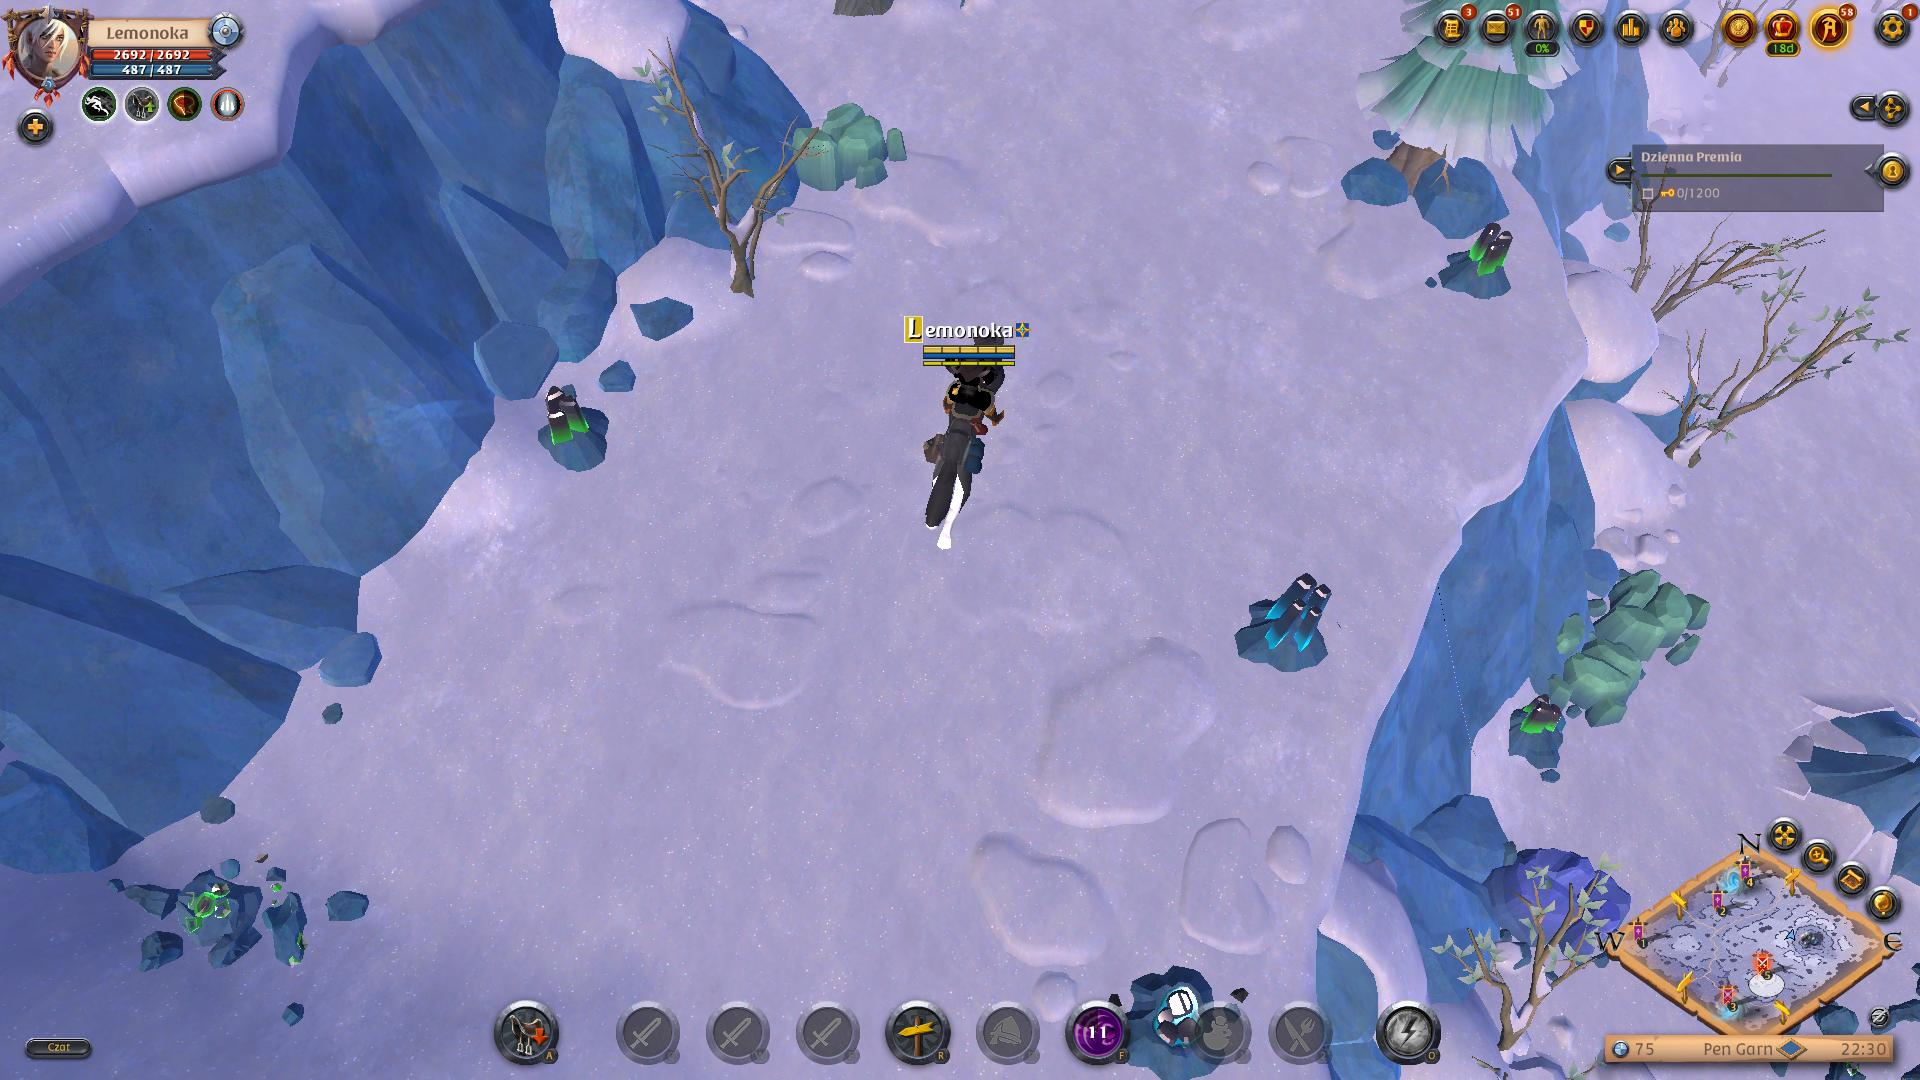ore tier 3: (531, 381, 620, 469), (1439, 216, 1516, 307)
ore tier 4: (1233, 568, 1337, 674)
rock tier 3: (781, 96, 915, 198)
